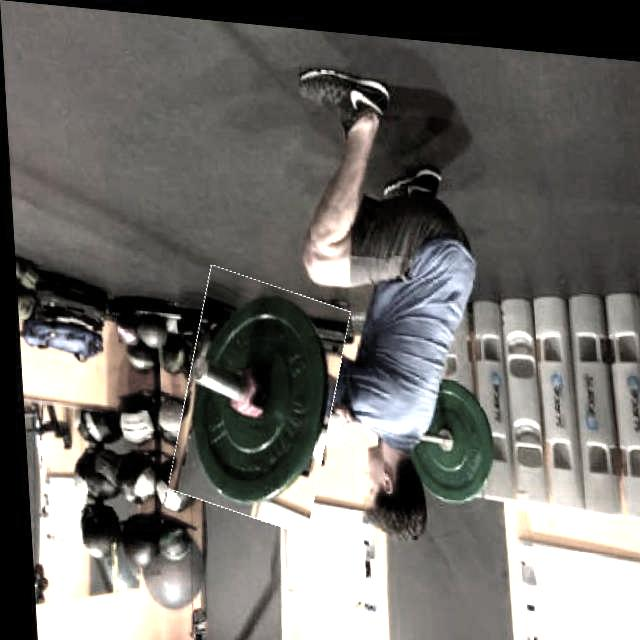barbell: (167, 265, 345, 527)
